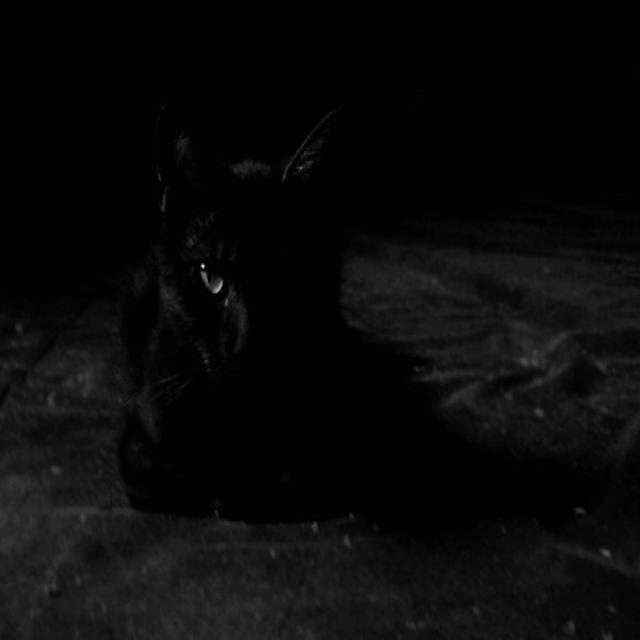Cat: (94, 78, 391, 557)
